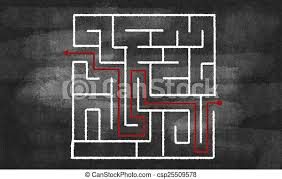maze: (73, 14, 215, 159)
